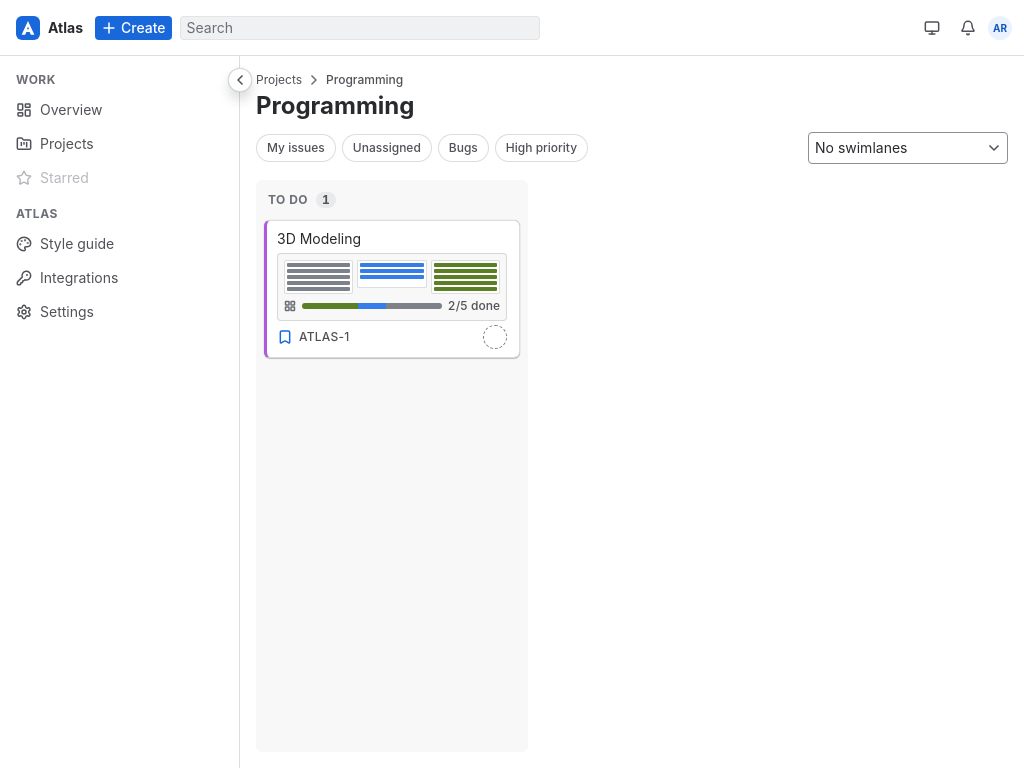
Test case: nested boards › drills into a card’s board and grows a linkable breadcrumb per level
This screenshot has width=1024, height=768.
Click the button "2/5 done".
click(392, 287)  # box [277,253,507,321]
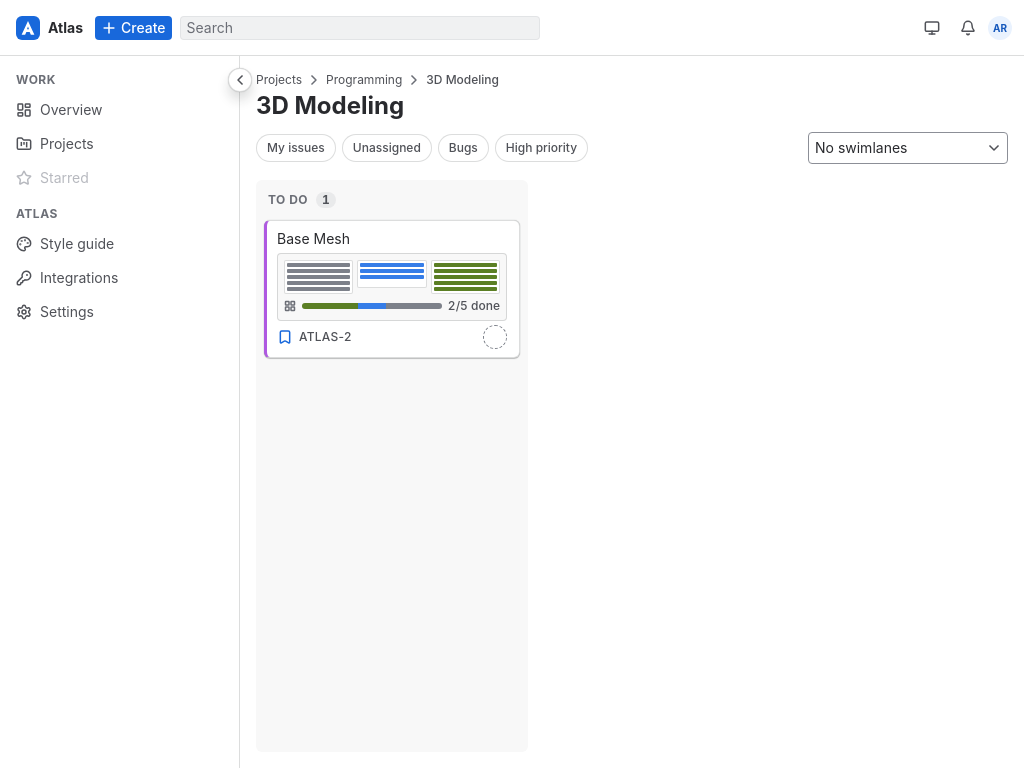
Check: the link "Programming" is shown, box [326,72,402,88]
Check: the text "3D Modeling" is shown, box [426,72,499,88]
Drill again into "Base Mesh".
Click the button "2/5 done".
click(392, 287)  # box [277,253,507,321]
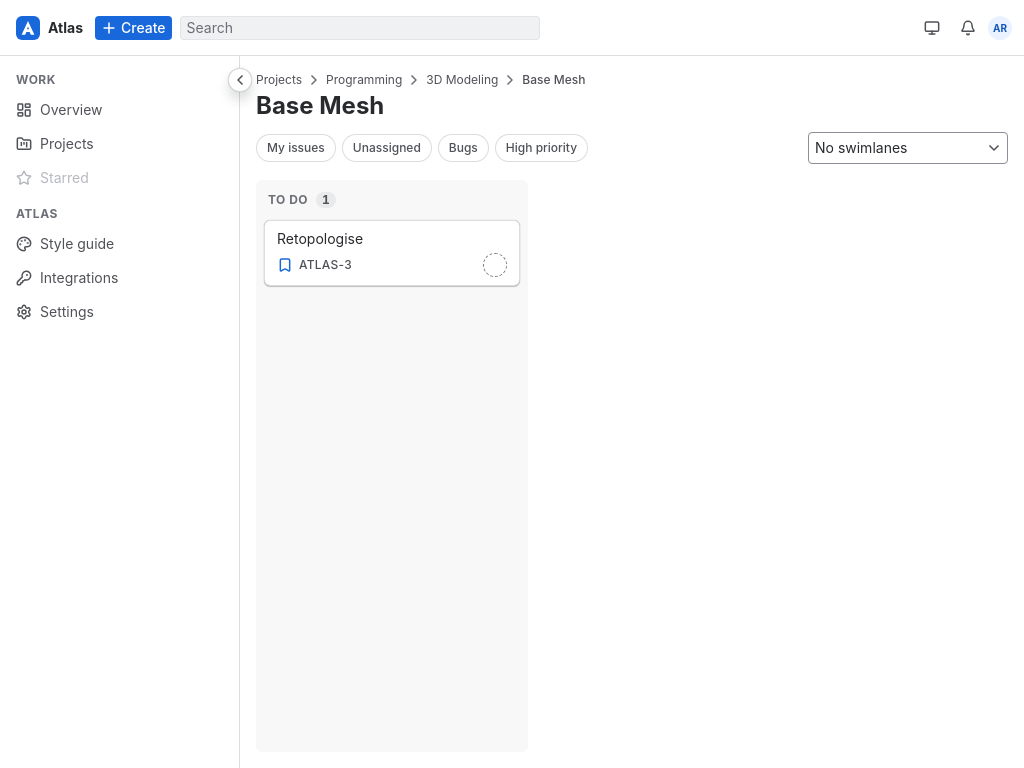
Check: the link "Programming" is shown, box [326,72,402,88]
Check: the text "Base Mesh" is shown, box [522,72,585,88]
